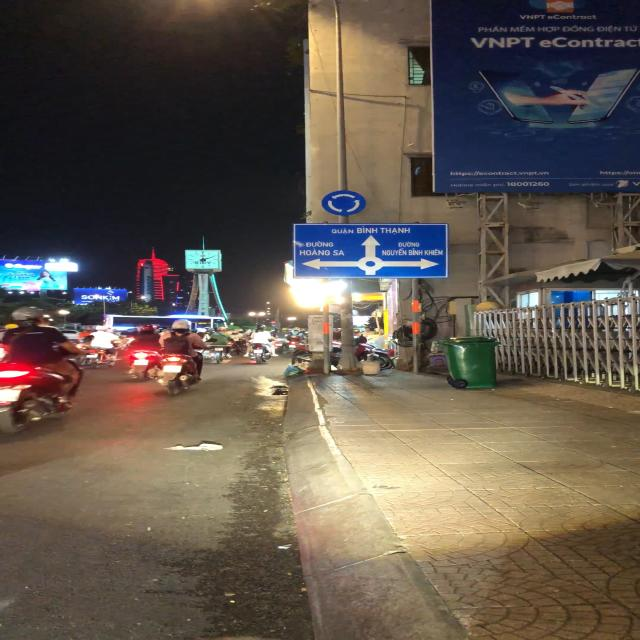Bien bao noi giao nhau chay theo vong xuyen: (321, 188, 369, 217)
